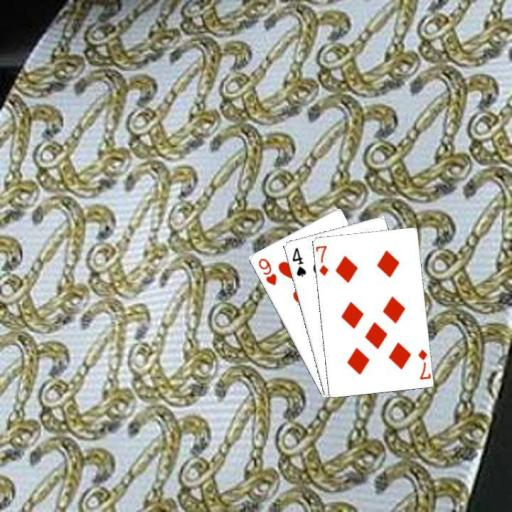4S: (289, 244, 307, 278)
7D: (314, 242, 329, 277), (415, 346, 430, 381)
9H: (255, 255, 278, 287)
